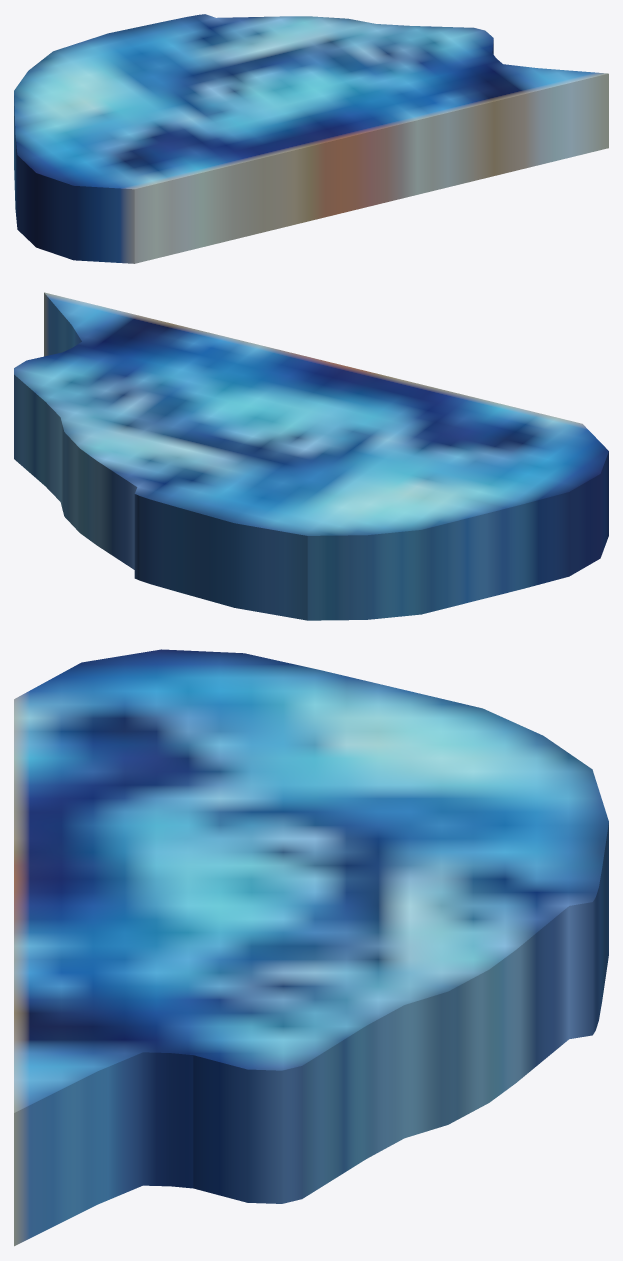
File: el despertar 2.dae
3 views of the same model, one above another, from view 1: azimuth 30°, elevation 25°; view 2: azimuth 150°, elevation 25°; view 3: azimuth 270°, elevation 25° (orthographic). The views are drawn at different scales.
Visible parts, largest first — view 1: SketchUp; view 2: SketchUp; view 3: SketchUp.
Part boxes in pixels (x1=…): SketchUp: x1=14, y1=14, x2=608, y2=263; SketchUp: x1=14, y1=292, x2=608, y2=620; SketchUp: x1=14, y1=649, x2=608, y2=1246.
Bounding box in the file's own units: 5.13 × 2.78 × 0.6875.
2 materials, 1 textured.
